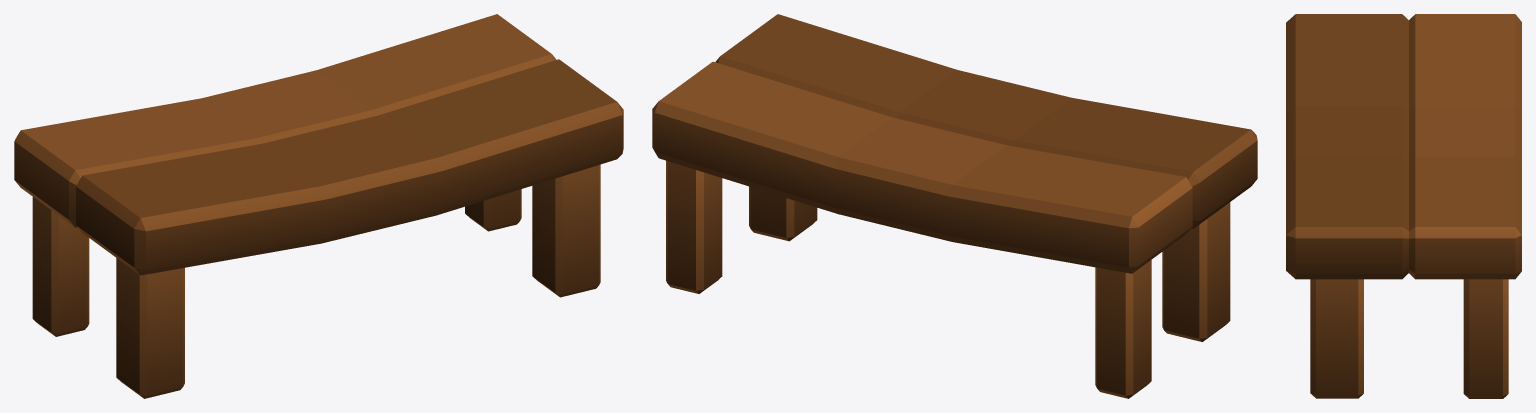
File: Bank-3.fbx
The picture shows the model from 3 angles, left to right: view 1: azimuth 30°, elevation 25°; view 2: azimuth 150°, elevation 25°; view 3: azimuth 270°, elevation 25°; orthographic projection. The views are drawn at different scales.
Visible parts, largest first — view 1: Bank-3; view 2: Bank-3; view 3: Bank-3.
Boxes of the visible parts, x1,y1,x2,y2 form: Bank-3: [14, 14, 623, 398]; Bank-3: [652, 14, 1257, 398]; Bank-3: [1286, 14, 1521, 398].
Bounding box in the file's own units: 245 × 92.04 × 112.
